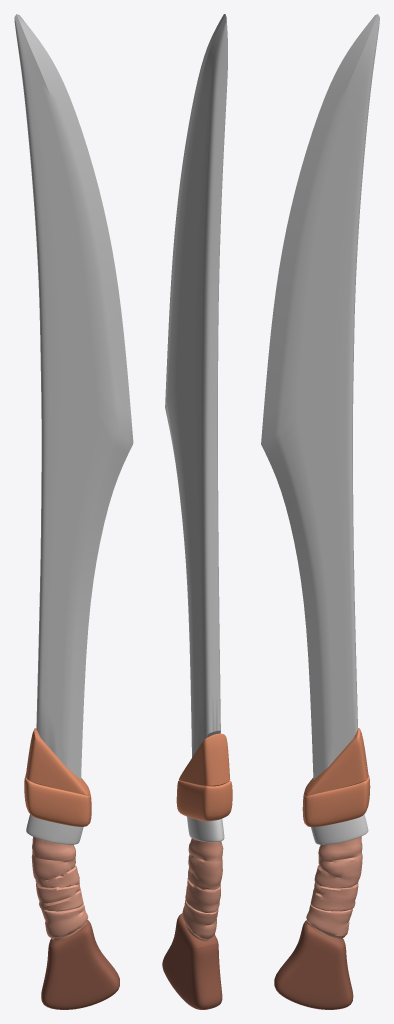
File: Espada.fbx
The picture shows the model from 3 angles, left to right: view 1: azimuth 90°, elevation 25°; view 2: azimuth 210°, elevation 25°; view 3: azimuth 270°, elevation 25°; orthographic projection.
Visible parts, largest first — view 1: Espada; view 2: Espada; view 3: Espada.
Boxes of the visible parts, left/top/right/bottom form: Espada: left=14, top=14, right=133, bottom=1009; Espada: left=162, top=14, right=232, bottom=1009; Espada: left=261, top=14, right=379, bottom=1009.
Size of the model in its own units: 4.86 by 162 by 17.62.
